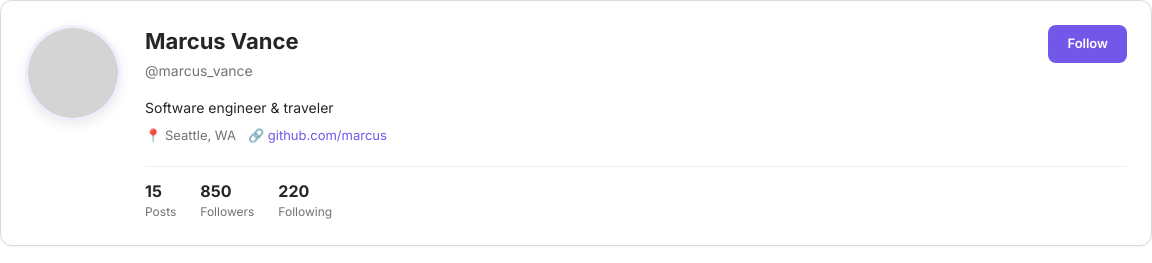
Test: Profile Component › toggles follow state and updates follower count
What coordinates should you click on to do the following:
click the button "Follow"
I would click on:
 (1088, 44)
Its box is [1048,25,1127,62].
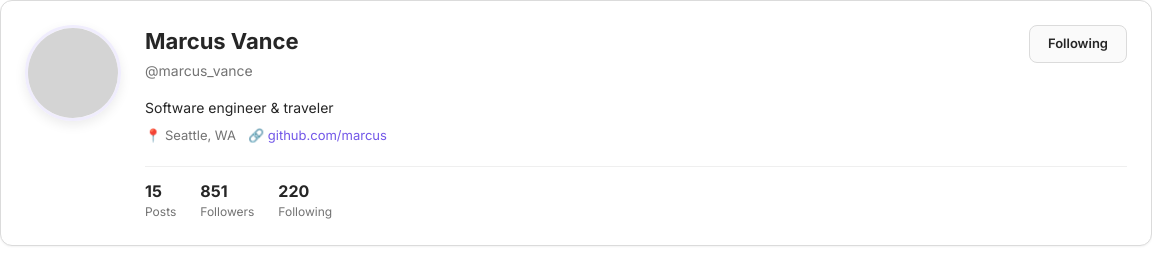
Now the button "Following" is shown, box [1029,25,1127,62]
Now the text "851" is shown, box [200,178,228,202]
